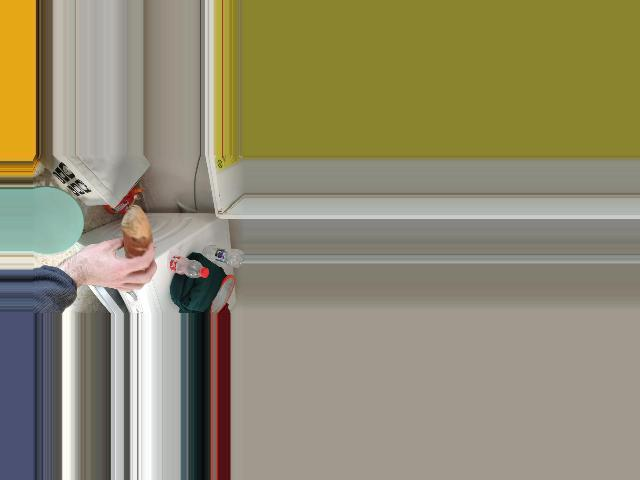sweet_potato: (115, 221, 150, 268)
